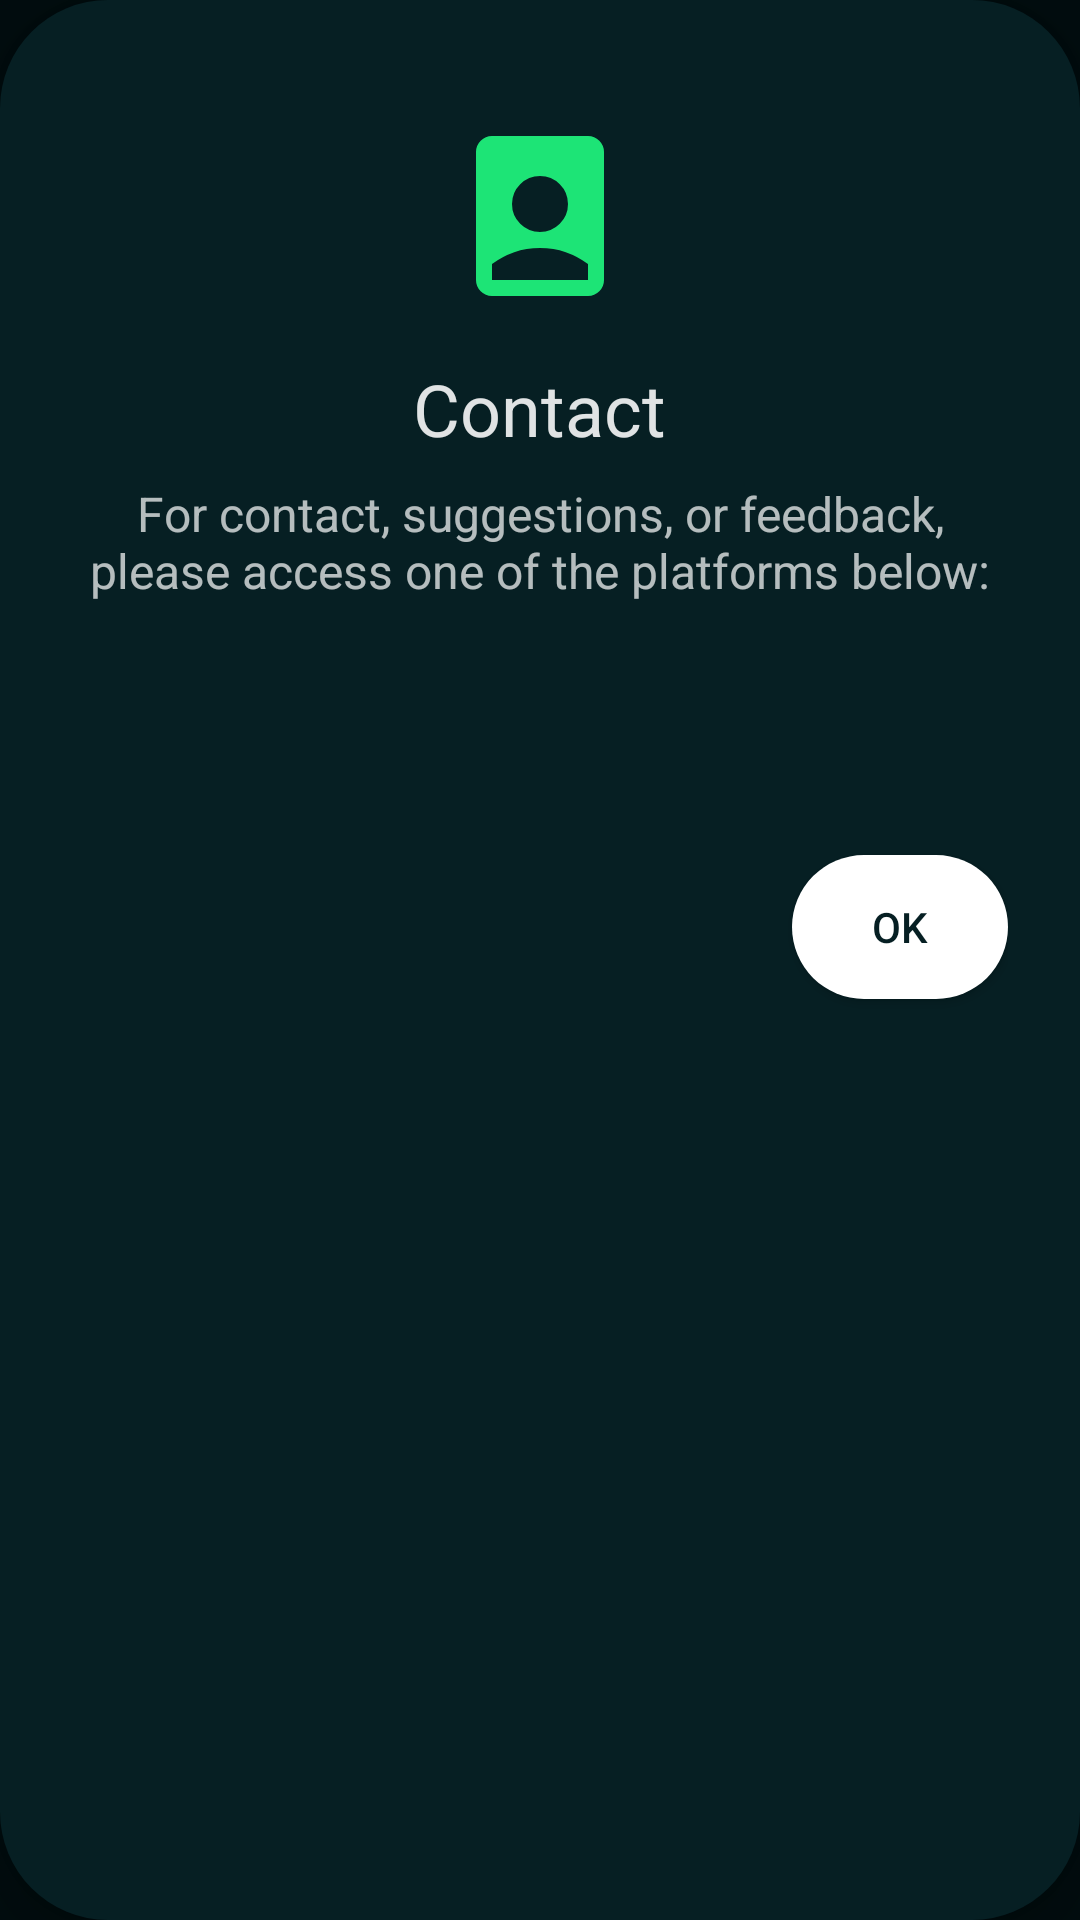

Where icons sit on this 1080*1920 app screen, as bbox(x1, y1, x2, y2):
person book: bbox(476, 136, 604, 296)
